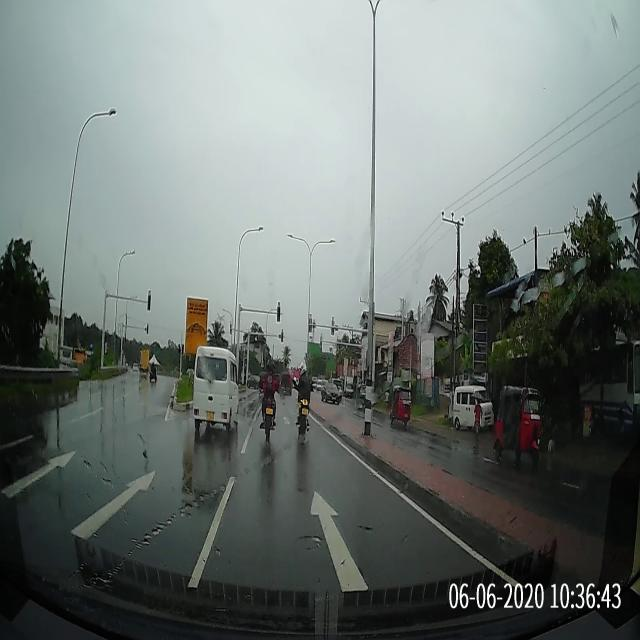Strelka vpered: (309, 489, 371, 594), (67, 470, 157, 541), (1, 450, 79, 499)
